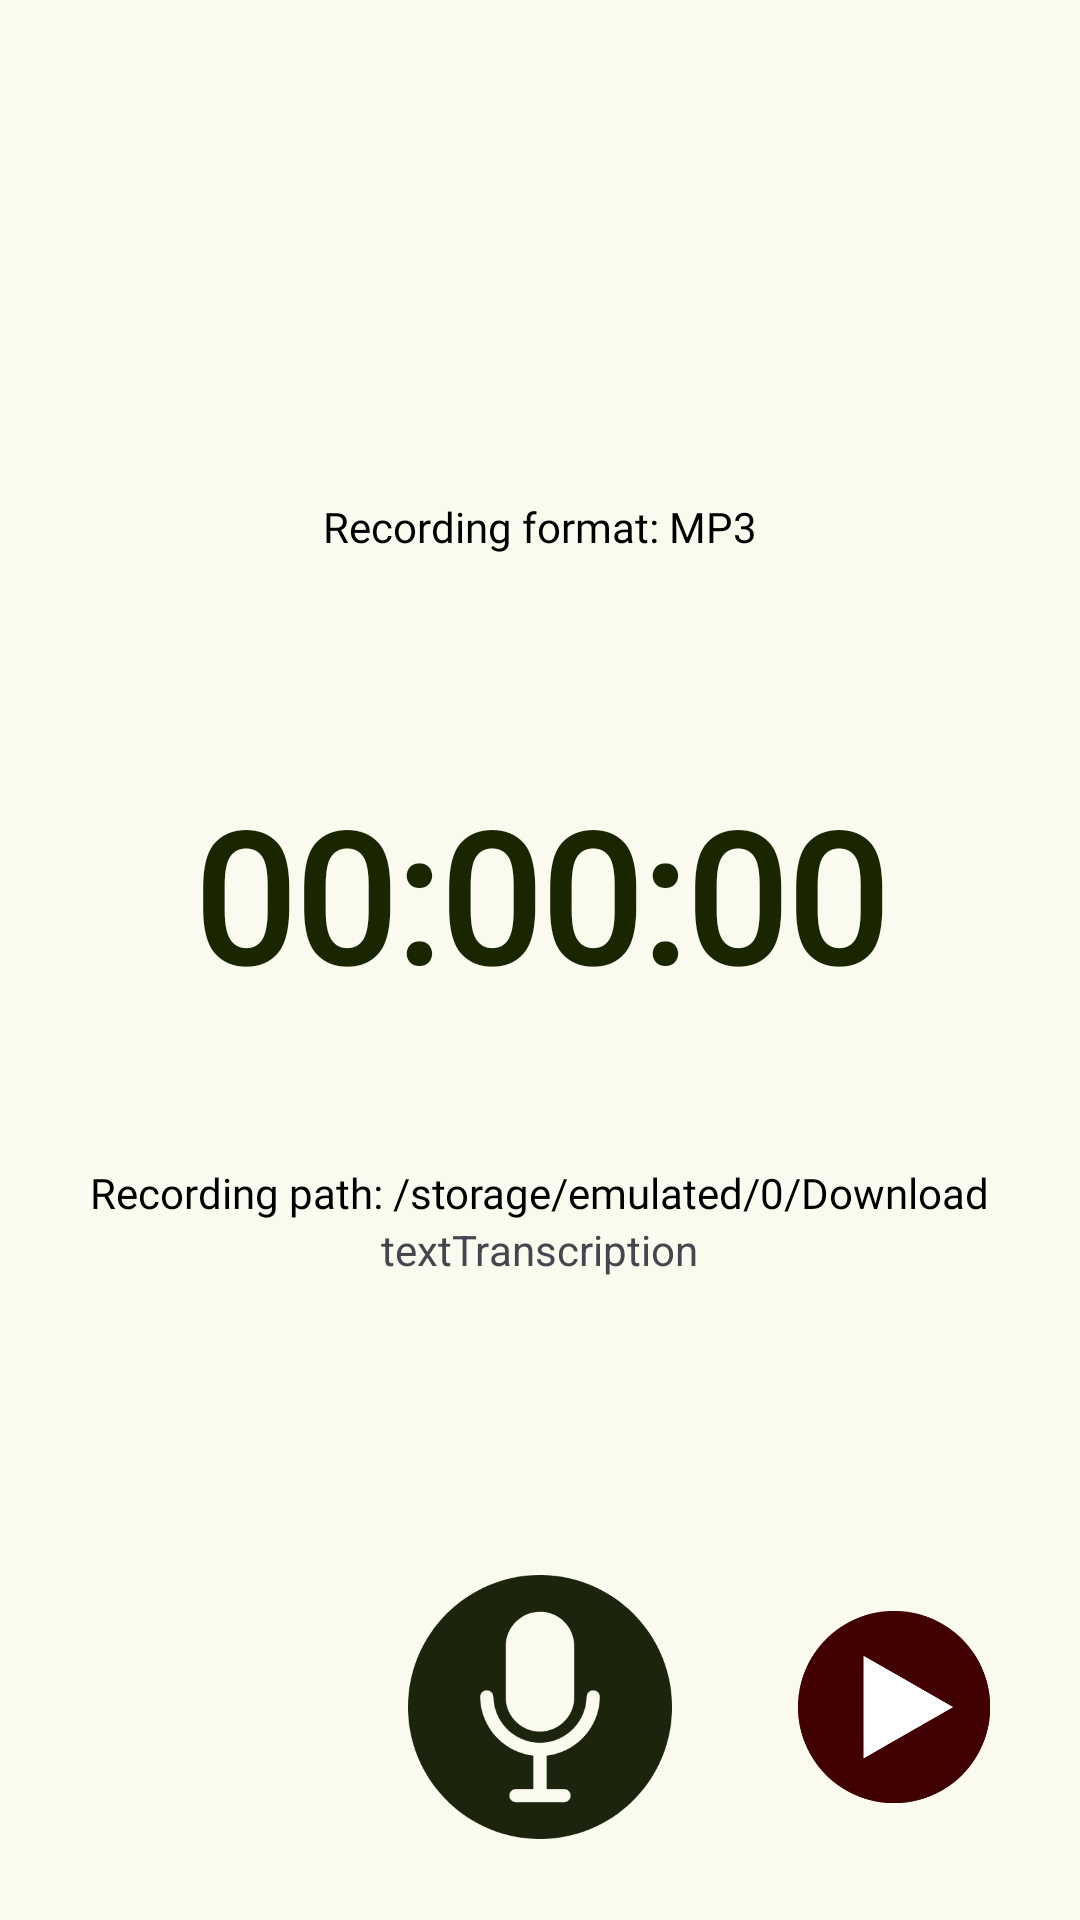

Icons on this 1080w x 1920h Android screen, each with its box as detection(x1, y1, x2, y2):
recording: detection(408, 1575, 672, 1839)
recording play: detection(798, 1611, 990, 1803)
